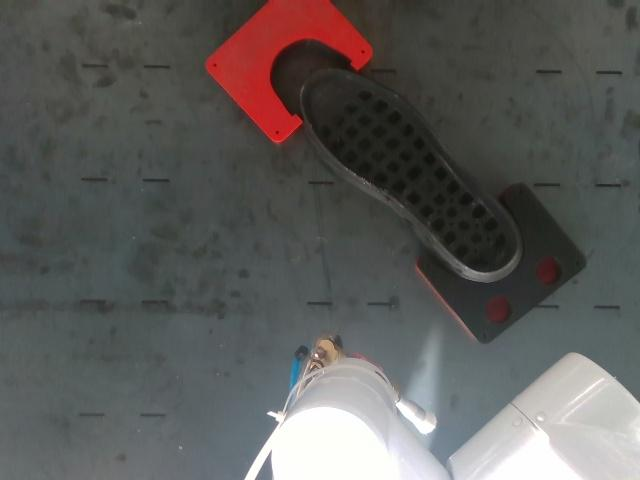shoes: (301, 70, 517, 273)
